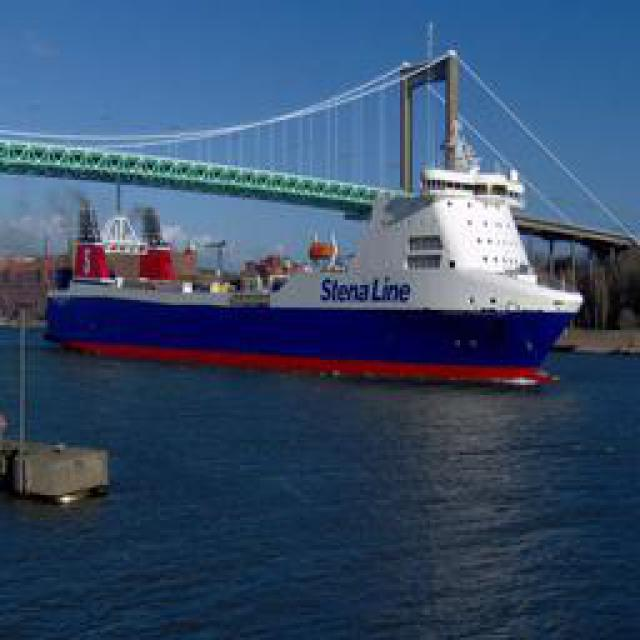Ship: (40, 75, 580, 380)
